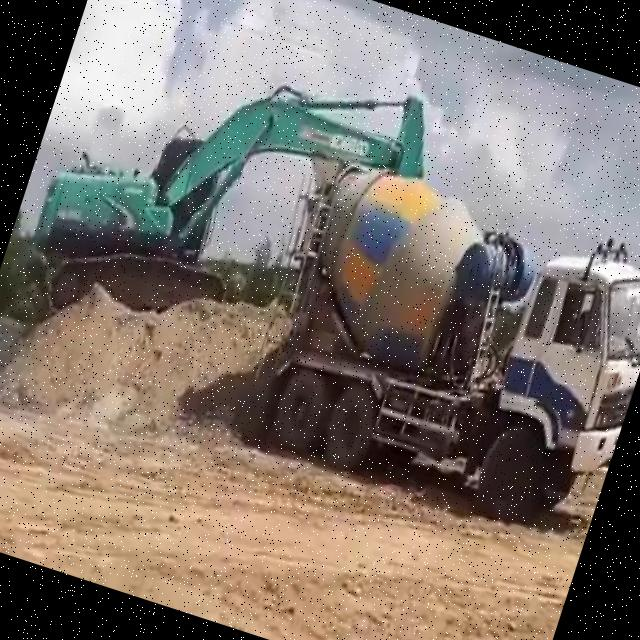Excavator: (9, 2, 440, 408)
